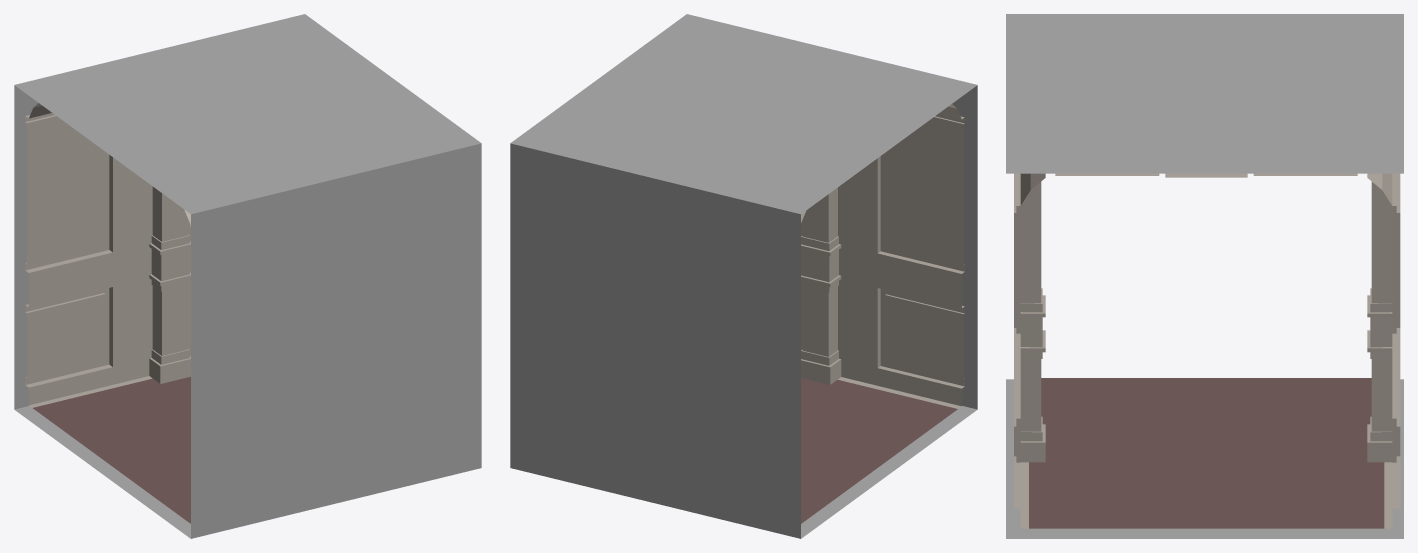
The model's file is Corridor_Pillar_Section_Mesh.fbx.
3 views of the same model, side by side, from view 1: azimuth 30°, elevation 25°; view 2: azimuth 150°, elevation 25°; view 3: azimuth 270°, elevation 25° (orthographic). The views are drawn at different scales.
Visible parts, largest first — view 1: polySurface15; view 2: polySurface15; view 3: polySurface15.
Part boxes in pixels (<box>): polySurface15: <box>14,14,481,538</box>; polySurface15: <box>510,14,977,538</box>; polySurface15: <box>1006,14,1403,538</box>.
Size of the model in its own units: 244 by 260 by 257.
